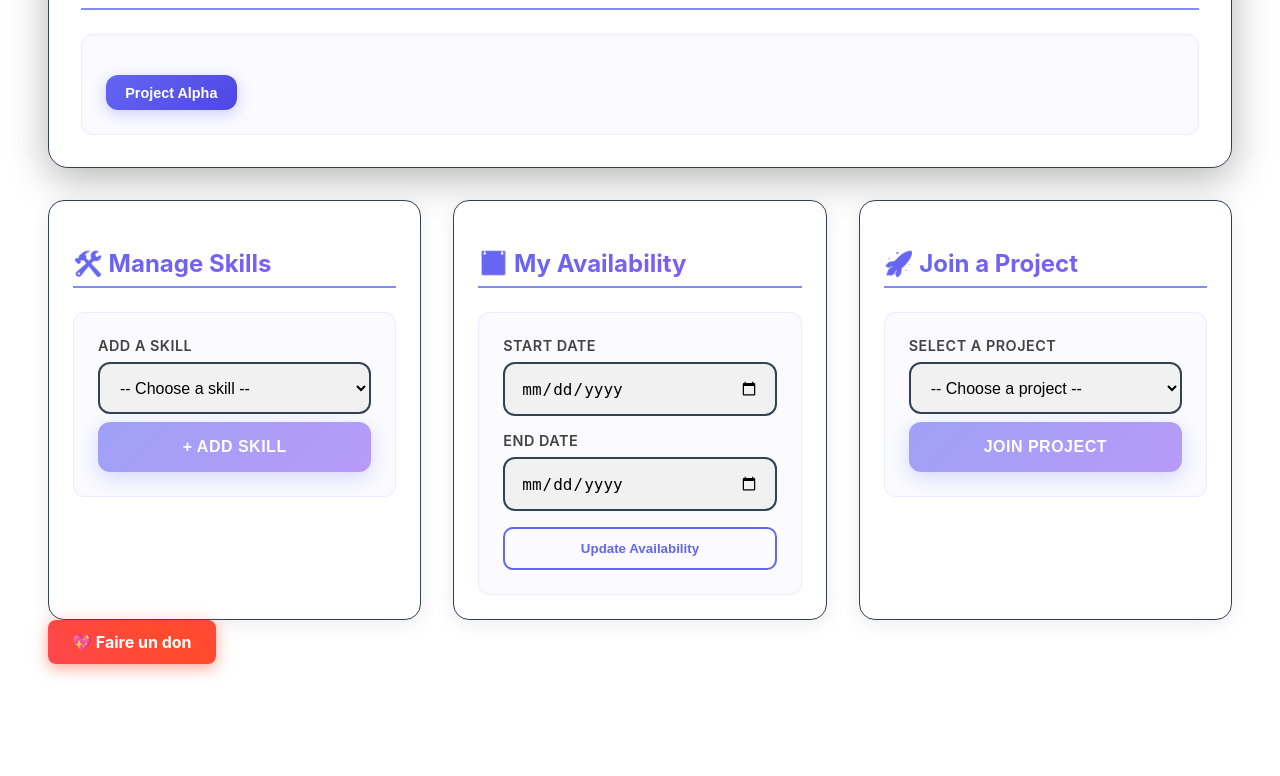
it: Home Component - Complete Coverage › Gestion des disponibilités › affiche une erreur si la date de début est manquante
The width and height of the screenshot is (1280, 776).
(page scrolled)
Click the button "Update Availability".
click(640, 548)  # box [503,527,777,570]
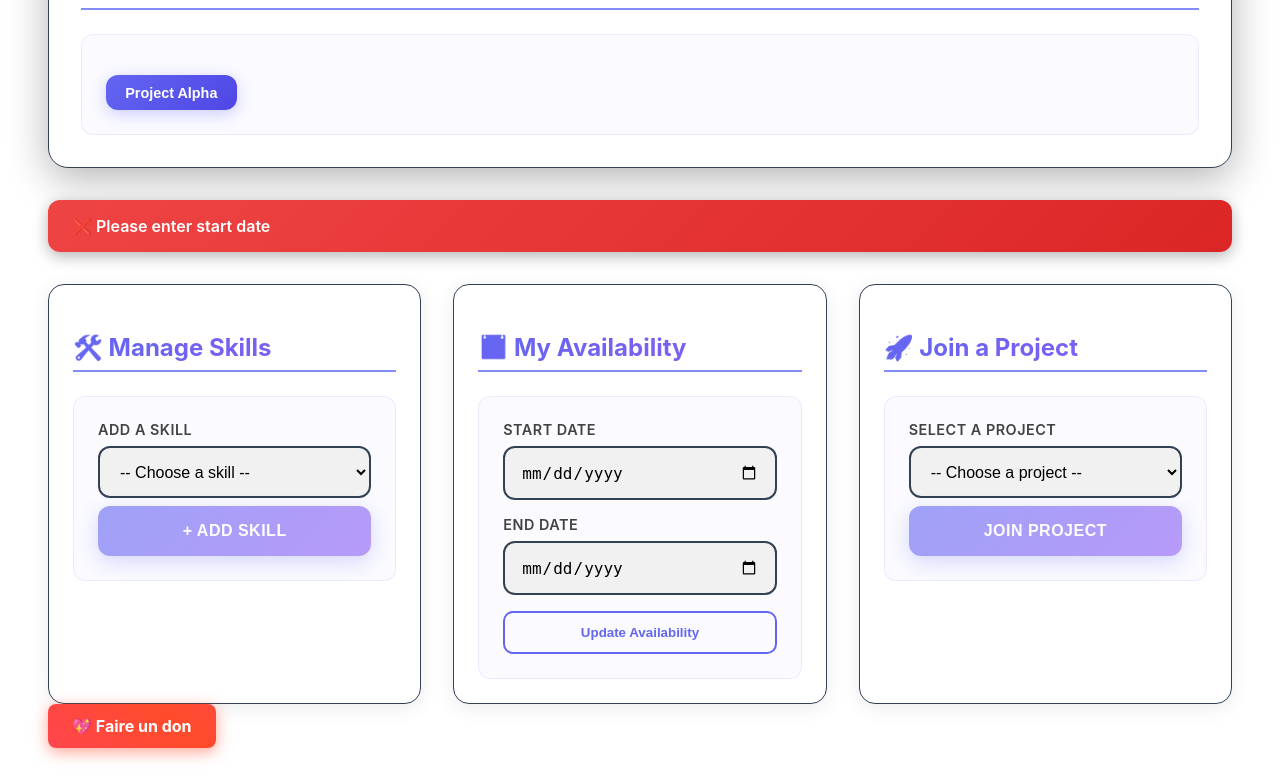
Now the text "❌ Please enter start date" is shown, box [48,200,1232,252]
